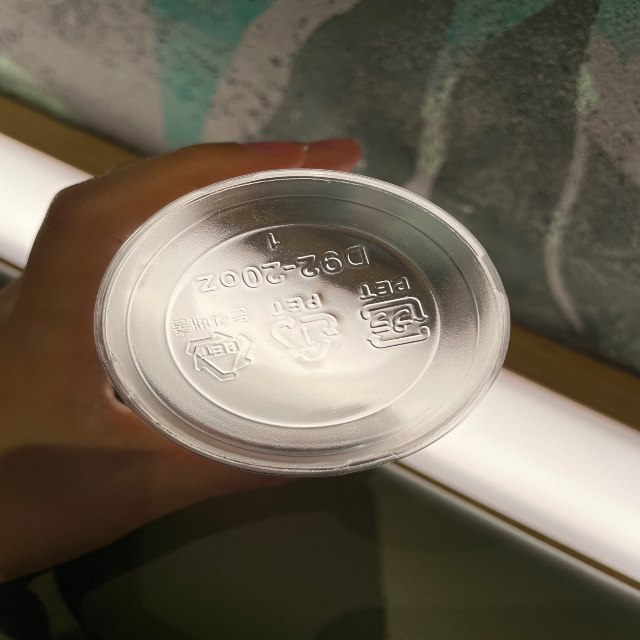pet: (167, 303, 260, 386), (266, 286, 342, 372), (354, 274, 436, 350)
